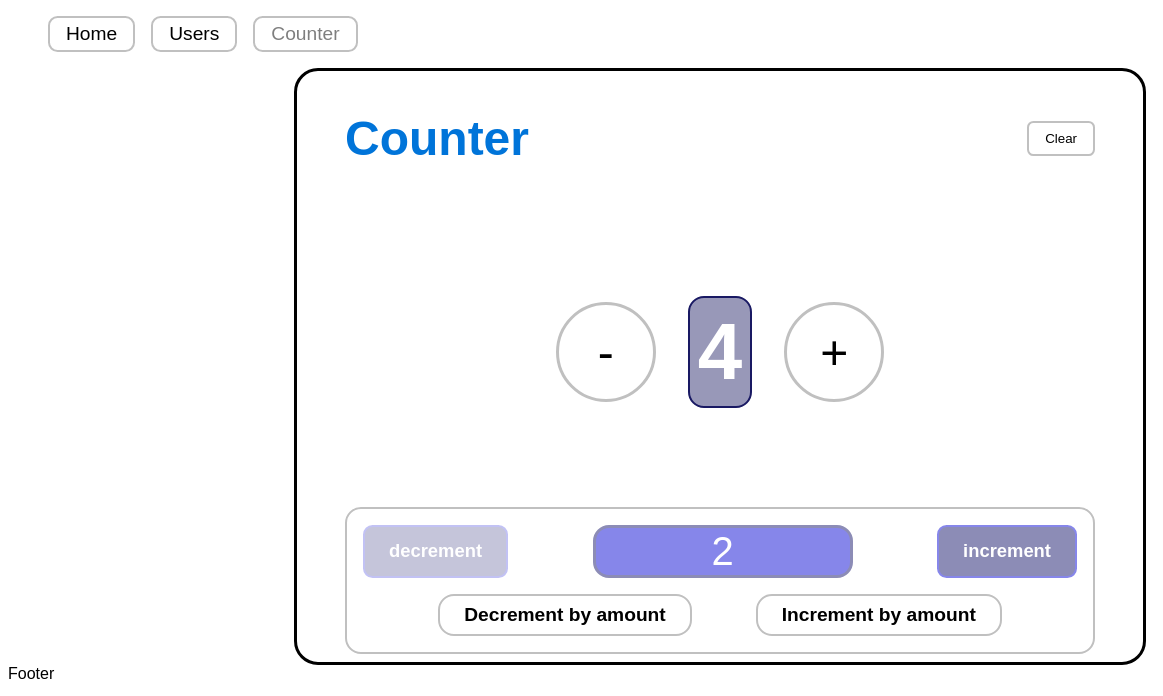
Test: Test CounterIncrementAndDecrement › Test global-counter-increment-button › Test button functionality case when value was updated by amount-buttons-box__decrement-btn
Expected: the heading with test id "global-counter-value" reads "4", 698,307 -> 742,396
Click the button with test id "amount-buttons-box__decrement-btn": (565, 615) 438,594 -> 692,636
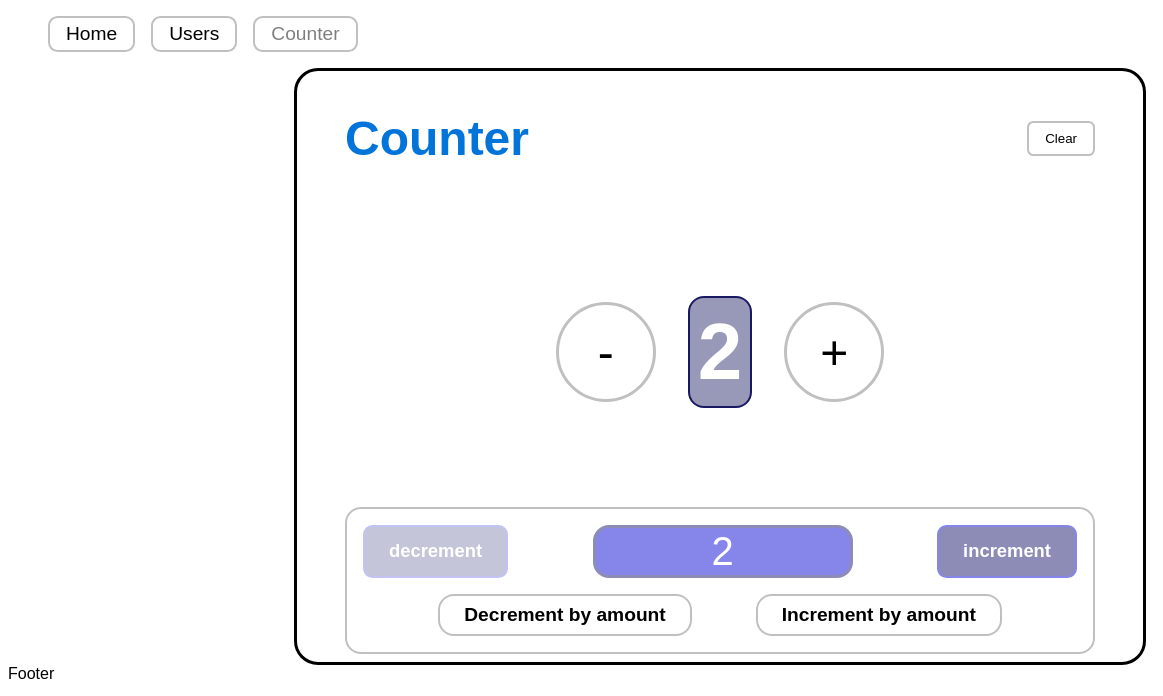
Expected: the heading with test id "global-counter-value" reads "2", 698,307 -> 742,396
Click the button with test id "global-counter-increment-button": (834, 352) 784,302 -> 884,402
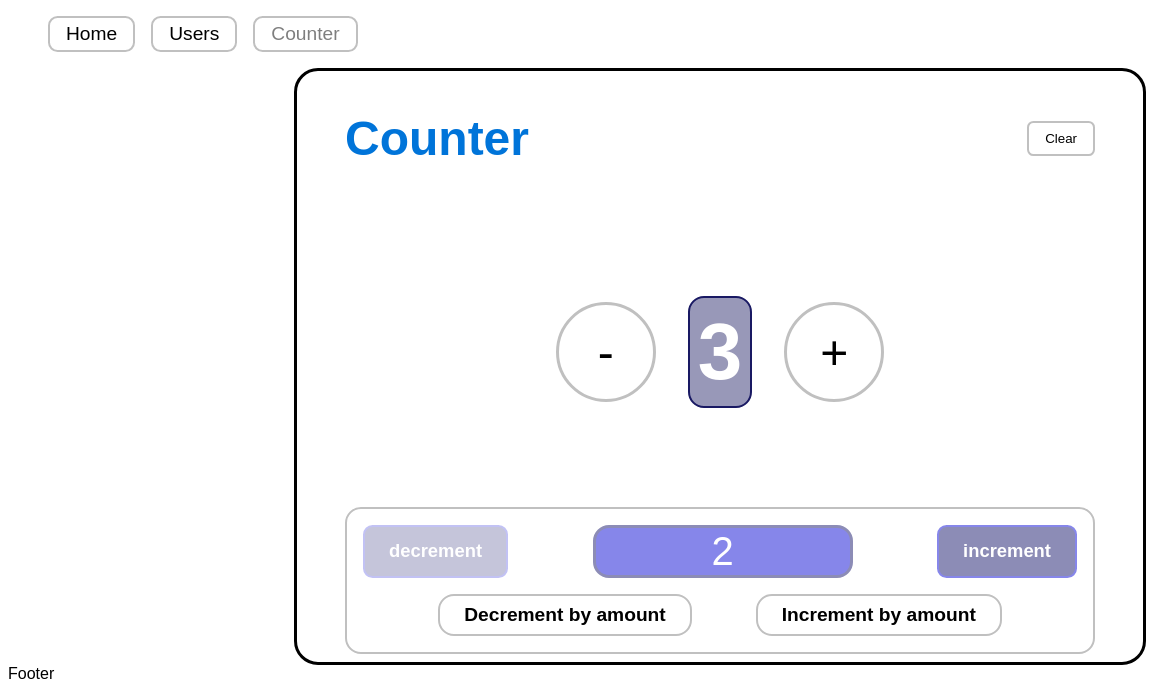
Expected: the heading with test id "global-counter-value" reads "3", 698,307 -> 742,396
